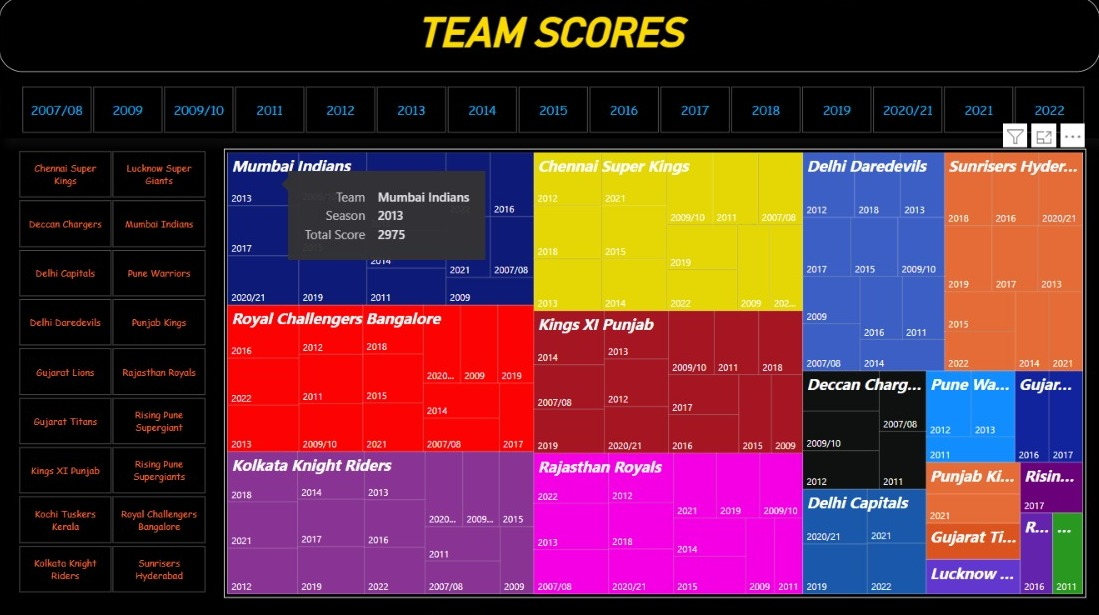

This screenshot's page, from the dashboard's own definition file:
{"tool":"powerbi","page":{"name":"Team Scores","canvas":[1420,800],"ordinal":5},"visuals":[{"type":"textbox","box":[0,0,1416.4,96.5],"z":0},{"type":"slicer","fields":{"Values":["TEAM RUNS.BattingTeam"]},"box":[0,191.6,289.4,581.6],"z":1000},{"type":"slicer","fields":{"Values":["TEAM RUNS.Season"]},"box":[4,108.5,1416.4,73.7],"z":2000},{"type":"treemap","fields":{"Group":["TEAM RUNS.BattingTeam"],"Values":["Sum(TEAM RUNS.Runs)"],"Details":["TEAM RUNS.Season"]},"box":[289.4,195.6,1109.5,577.6],"z":3000}]}

Visuals, with their boxes in screenshot pixels (x1, y1, x2, y2), scaled from the page's 1420x800 canvas onto the 1099x615 screenshot:
textbox: x1=0 y1=0 x2=1096 y2=74
slicer - TEAM RUNS.BattingTeam: x1=0 y1=147 x2=224 y2=594
slicer - TEAM RUNS.Season: x1=3 y1=83 x2=1098 y2=140
treemap - TEAM RUNS.BattingTeam x Sum(TEAM RUNS.Runs): x1=224 y1=150 x2=1083 y2=594
